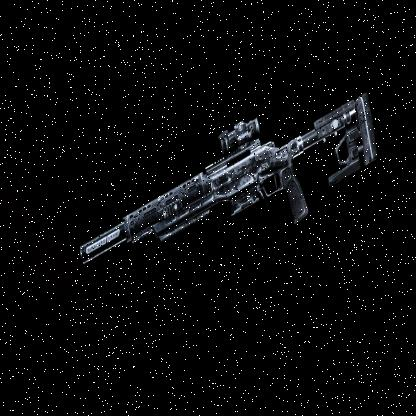rifle: (66, 29, 386, 350)
